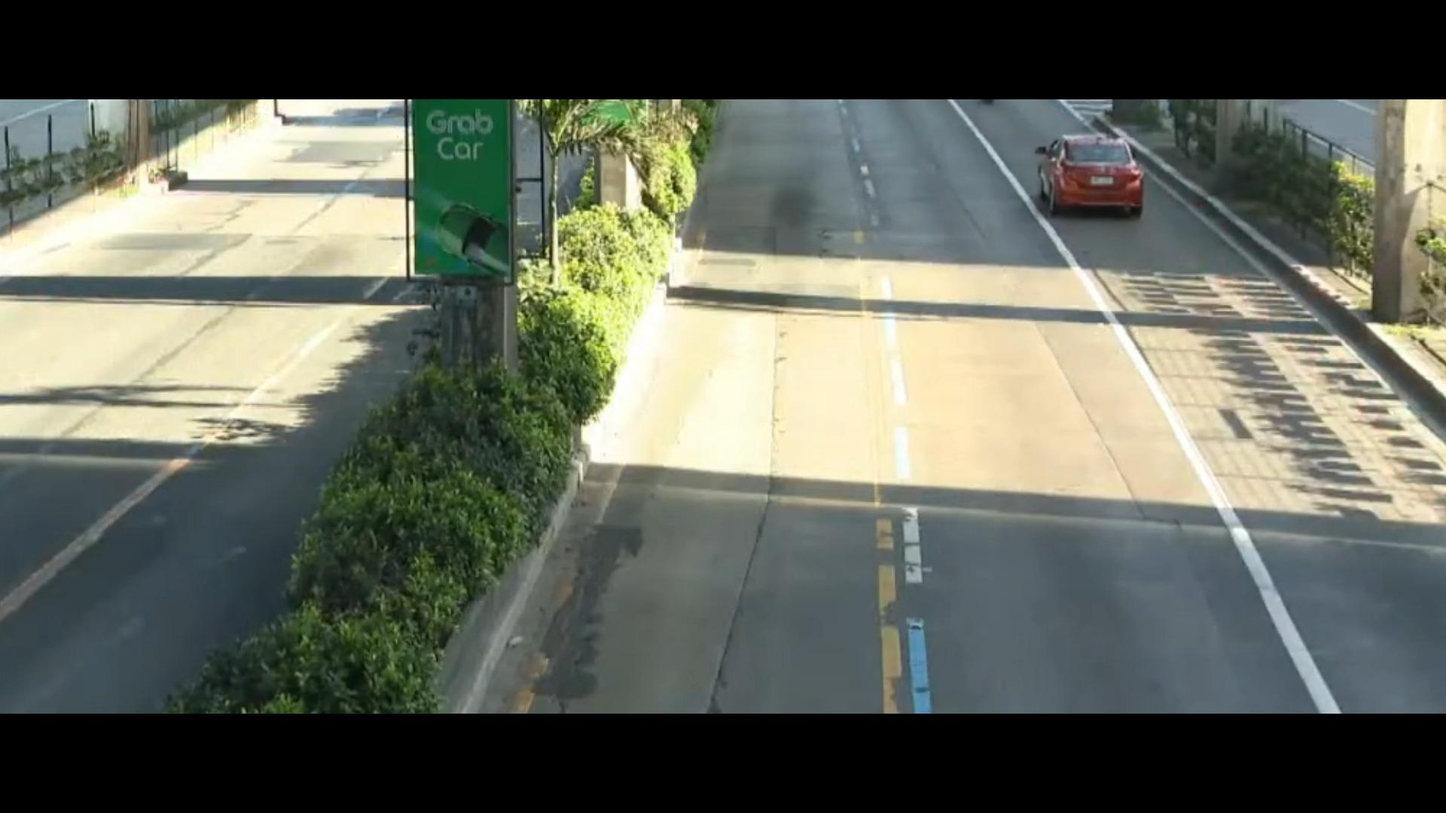Sedan: (1021, 121, 1171, 235)
